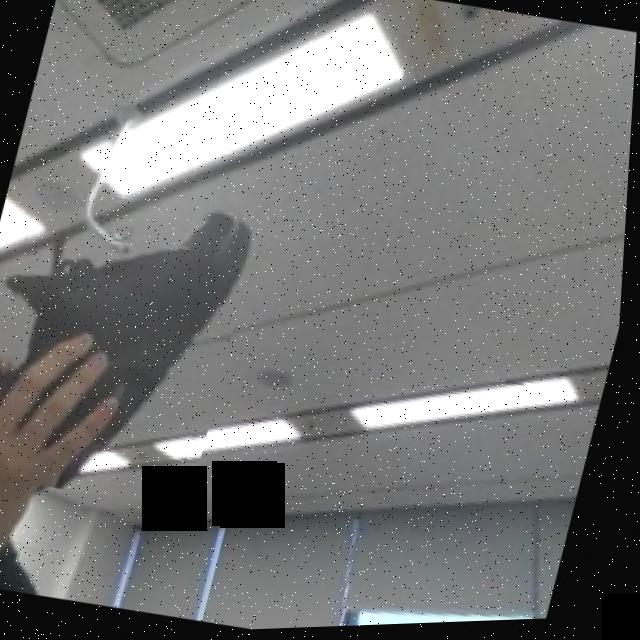shoe: (0, 175, 266, 517)
